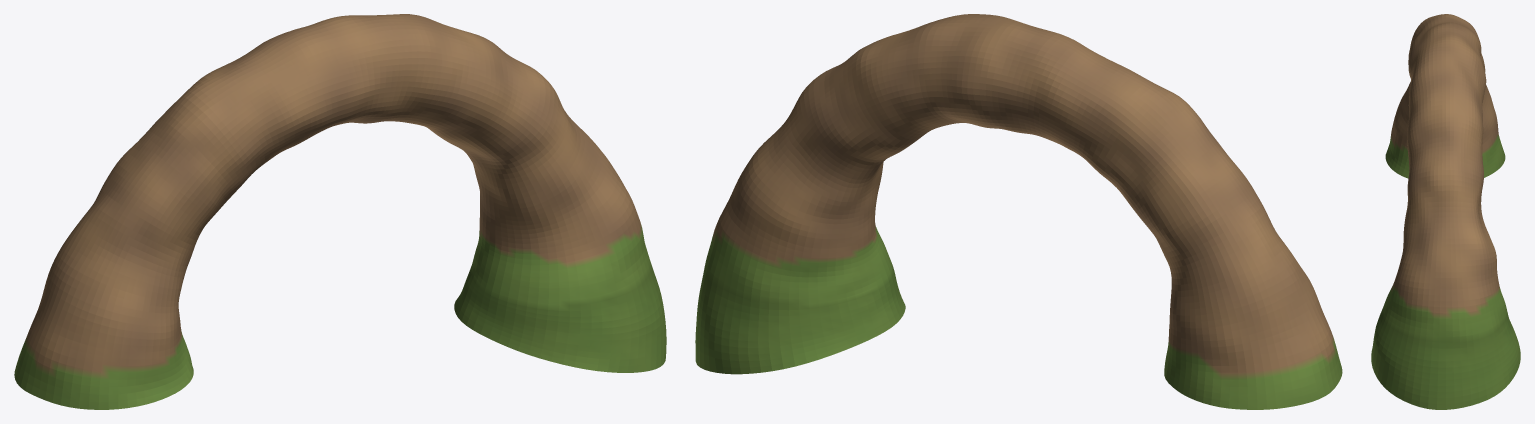
Rendered from arch.glb.
3 renders of one model, left to right at view 1: azimuth 30°, elevation 25°; view 2: azimuth 150°, elevation 25°; view 3: azimuth 270°, elevation 25°, orthographic. The views are drawn at different scales.
Parts seen in each view (by area): view 1: arch; view 2: arch; view 3: arch.
Part boxes in pixels (left/top/right/bottom): arch: left=14, top=14, right=666, bottom=409; arch: left=695, top=14, right=1342, bottom=409; arch: left=1371, top=14, right=1520, bottom=409.
Size of the model in its own units: 2.72 by 1.63 by 0.8218.
